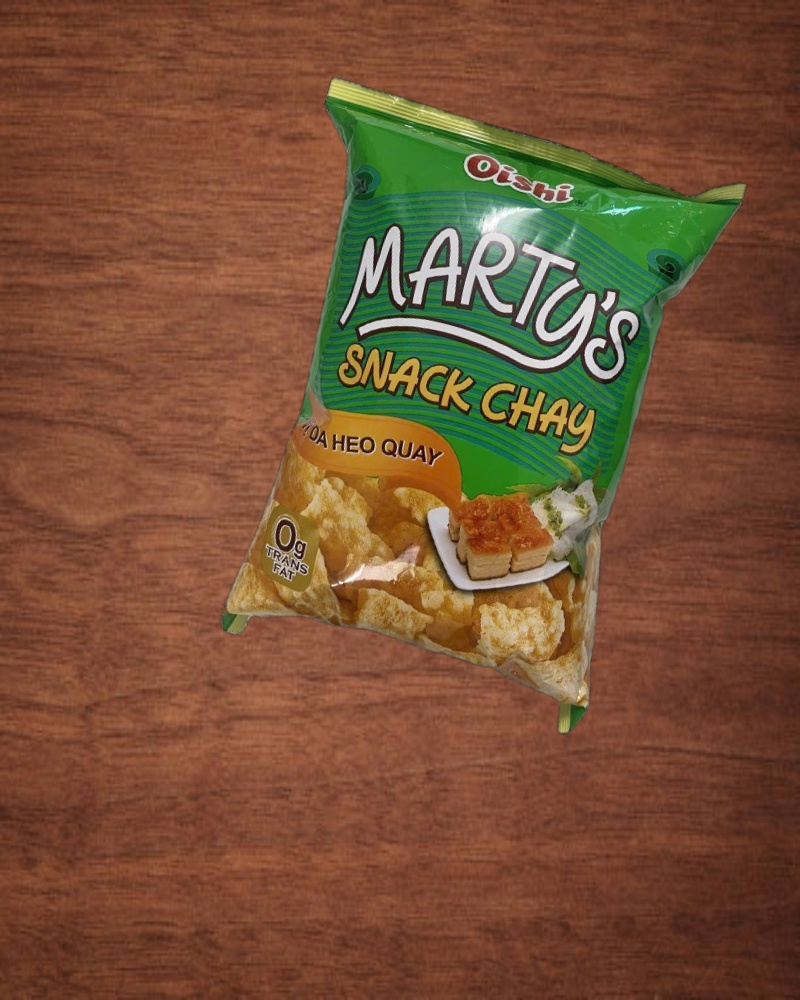Snack chay: (183, 73, 748, 745)
